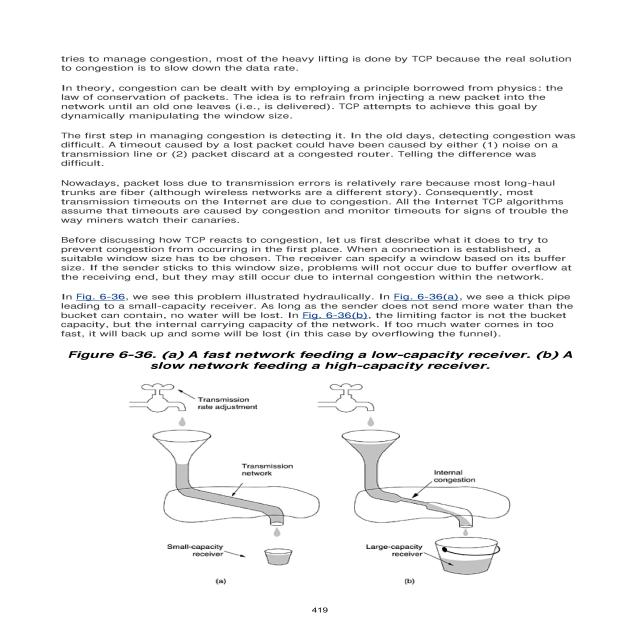diagram: (27, 343, 598, 589)
